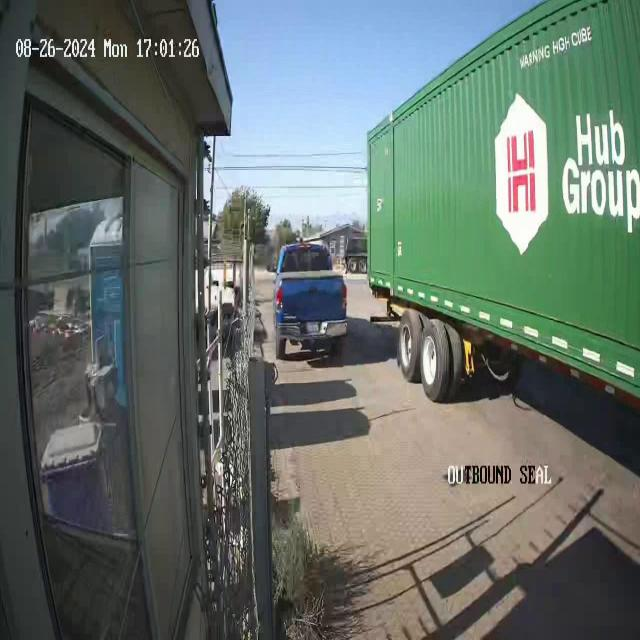TRUCK_OUT: (366, 1, 639, 406)
